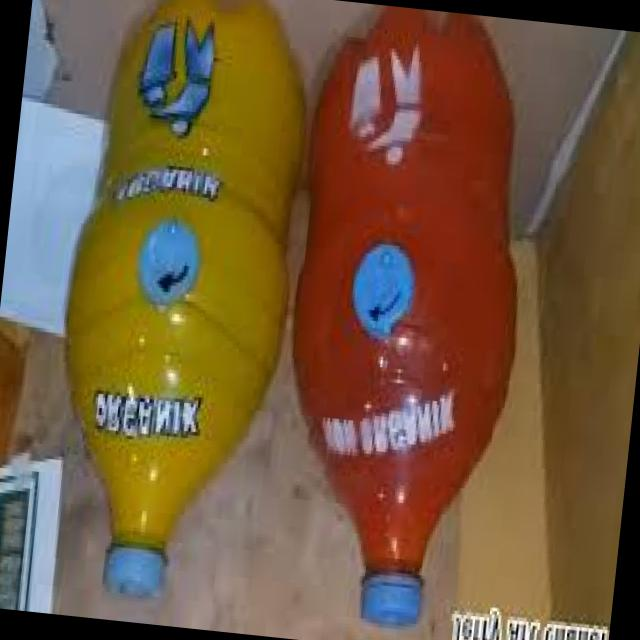Galon: (257, 2, 548, 640), (32, 0, 319, 617)
